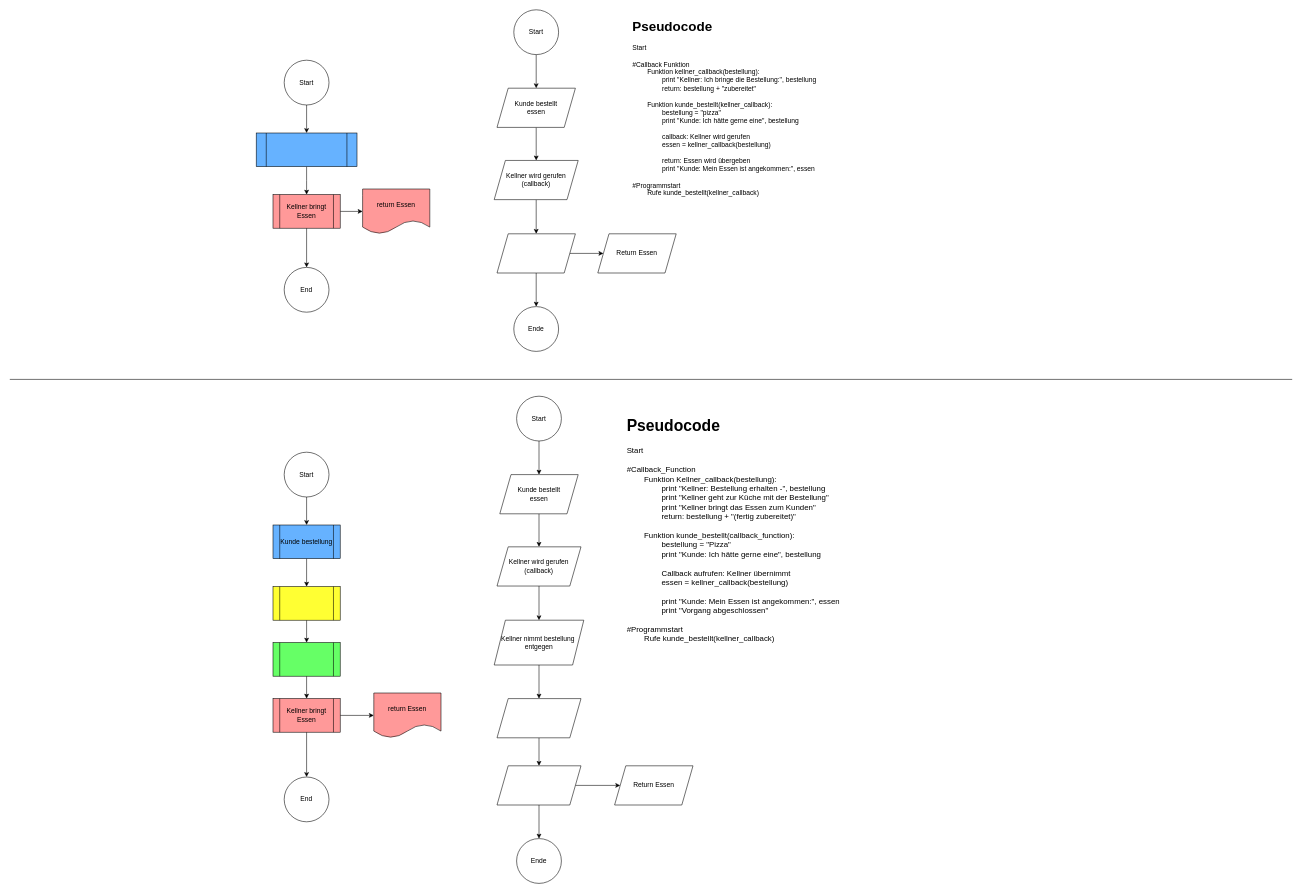
This 1303x893 diagram has some shape labels left out. The shapes that lost their labels are listed below. From the top down, each one's centre as x and y in pixels, then its label:
At point (306, 149): "Kunde bestellung (ruf Kellner)".
At point (535, 253): "Kellner bringt Essen zurück".
At point (306, 603): "kellner Nimmt bestellung".
At point (306, 659): "kellner zur Küche".
At point (538, 718): "Kellner bringt bestellung zur Küche".
At point (538, 785): "Kellner bringt Essen zum Kunden".
